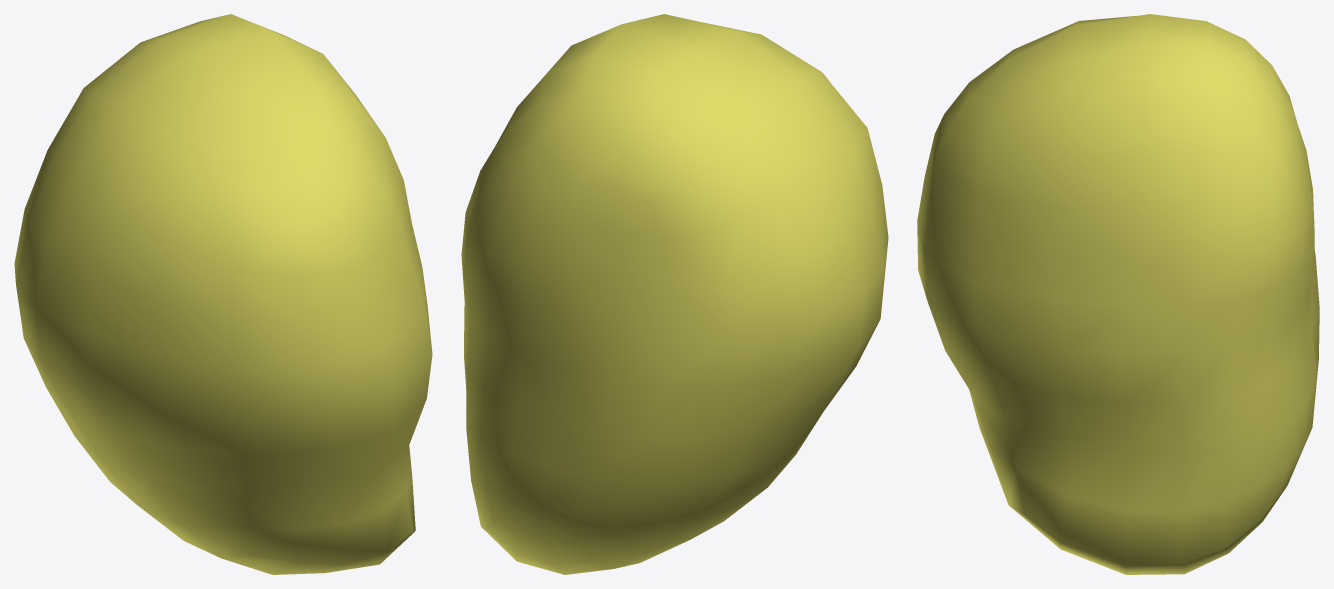
Rendered from MeshPotatoA8_0.obj.
3 renders of one model, left to right at view 1: azimuth 30°, elevation 25°; view 2: azimuth 150°, elevation 25°; view 3: azimuth 270°, elevation 25°, orthographic. The views are drawn at different scales.
Visible parts, largest first — view 1: PotatoA8; view 2: PotatoA8; view 3: PotatoA8.
Boxes of the visible parts, bbox=[...] form: PotatoA8: bbox=[14, 14, 432, 574]; PotatoA8: bbox=[461, 14, 888, 574]; PotatoA8: bbox=[917, 14, 1319, 574].
Size of the model in its own units: 0.0845 by 0.1192 by 0.0874.
